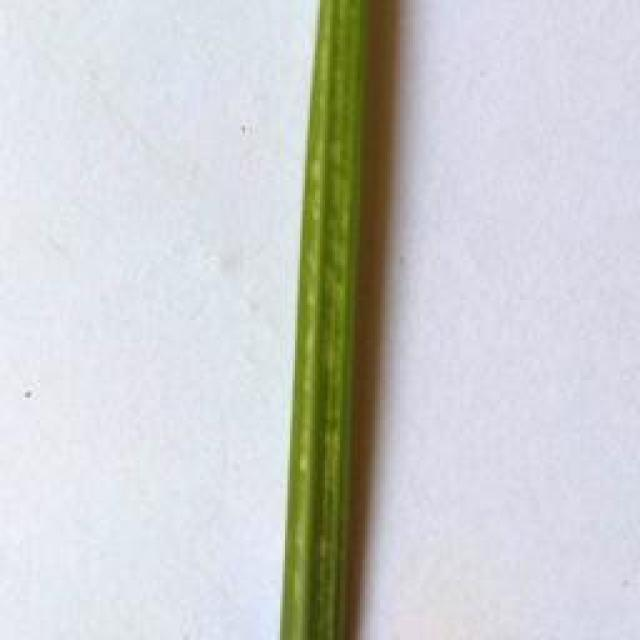Healthy-Plant: (271, 0, 362, 640)
